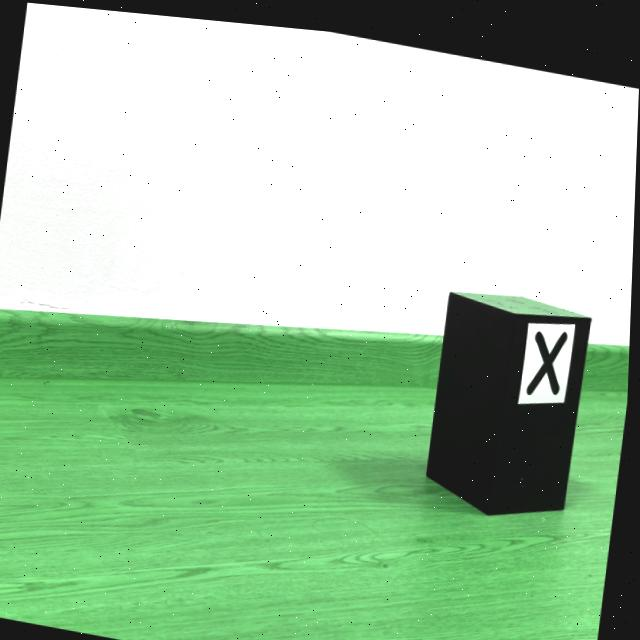X: (529, 320, 569, 384)
